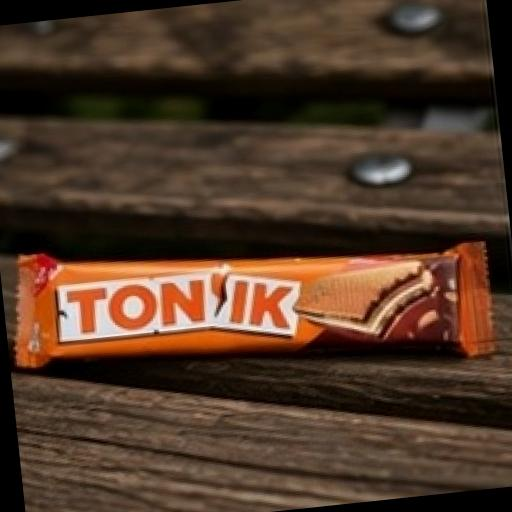tonik: (0, 137, 511, 419)
